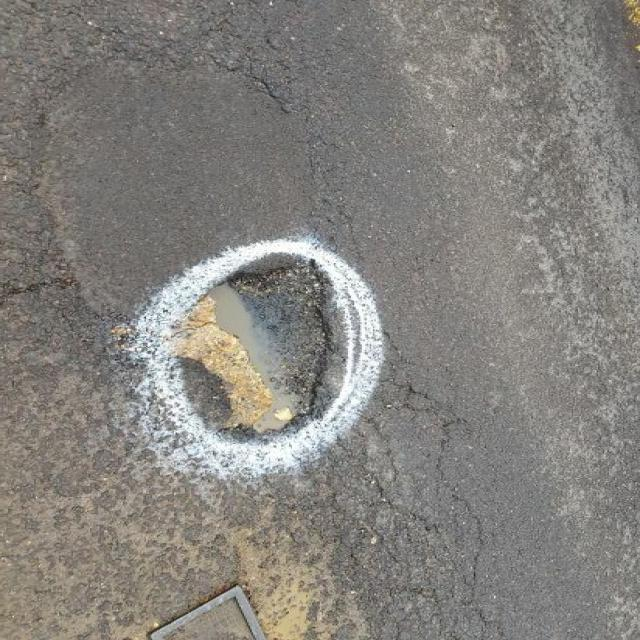Pothole: (149, 252, 351, 451)
